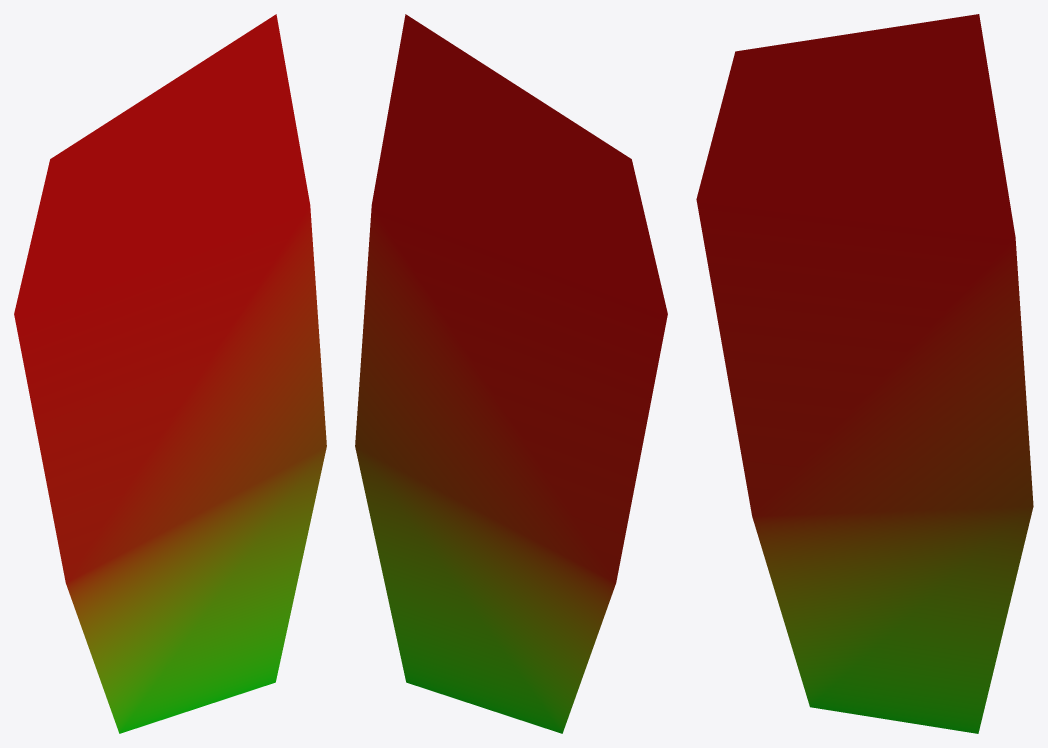
The model's file is Var1_LOD3.fbx.
The picture shows the model from 3 angles, left to right: view 1: azimuth 30°, elevation 25°; view 2: azimuth 150°, elevation 25°; view 3: azimuth 330°, elevation 25°; orthographic projection. The views are drawn at different scales.
Parts seen in each view (by area): view 1: _6c19_Var1_LOD3; view 2: _6c19_Var1_LOD3; view 3: _6c19_Var1_LOD3.
Boxes of the visible parts, x1,y1,x2,y2 form: _6c19_Var1_LOD3: [14, 14, 326, 733]; _6c19_Var1_LOD3: [355, 14, 667, 733]; _6c19_Var1_LOD3: [696, 14, 1033, 733].
Bounding box in the file's own units: 26.96 × 56.14 × 5.07e-06.
